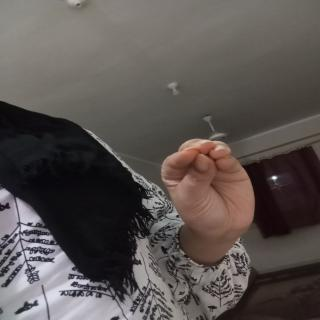HA: (152, 131, 276, 254)
